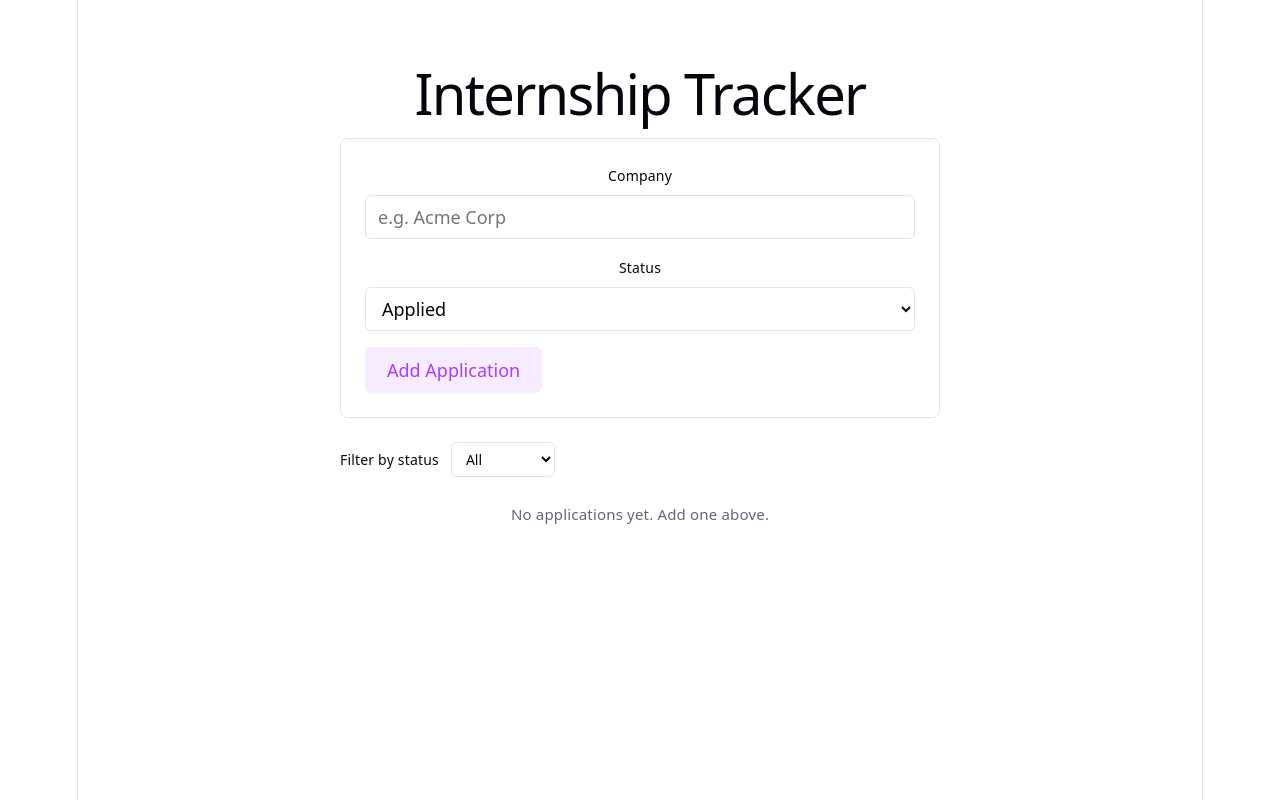
Internship Tracker › test_add_application: adds an application and shows it in the list
Type "Google" into the field labelled "Company" at point(640, 217), box x1=365 y1=195 x2=915 y2=239
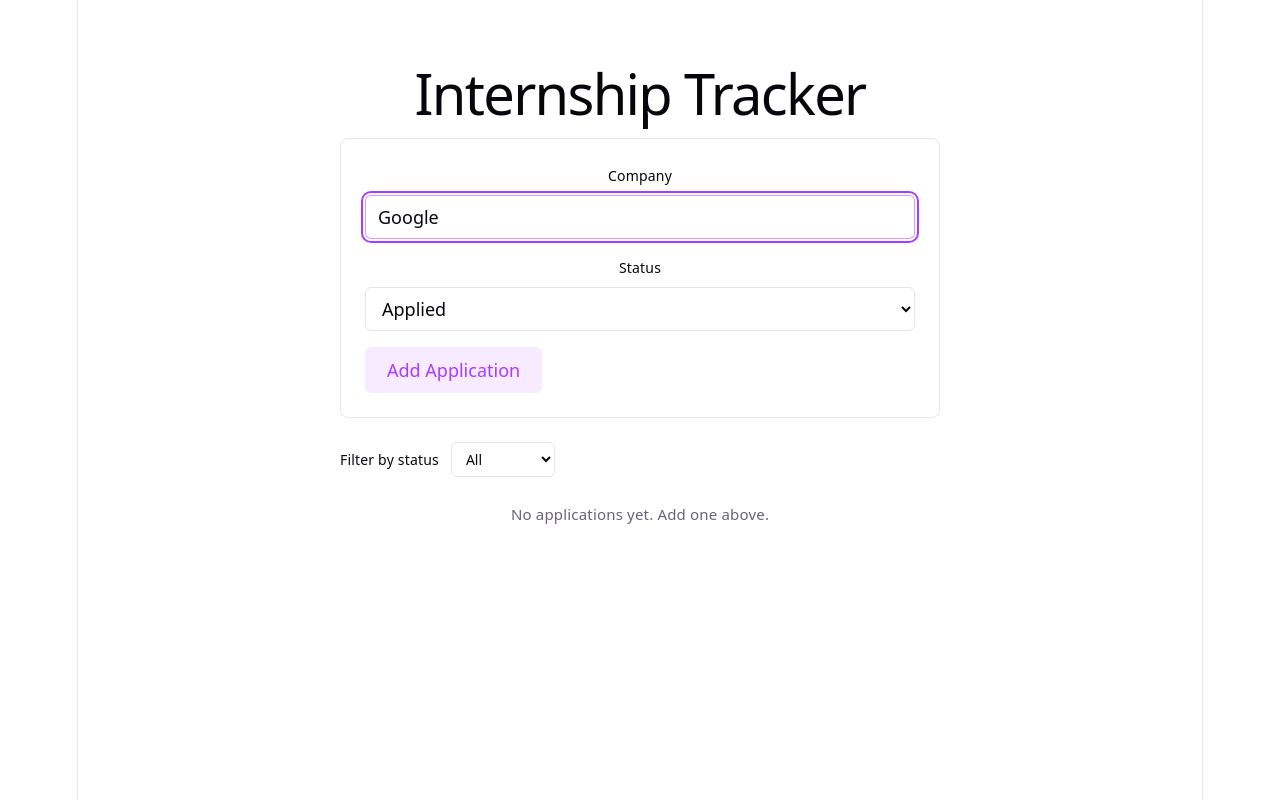
Select "Applied" in the dropdown labelled "Status" at point(640, 309), box x1=365 y1=287 x2=915 y2=331
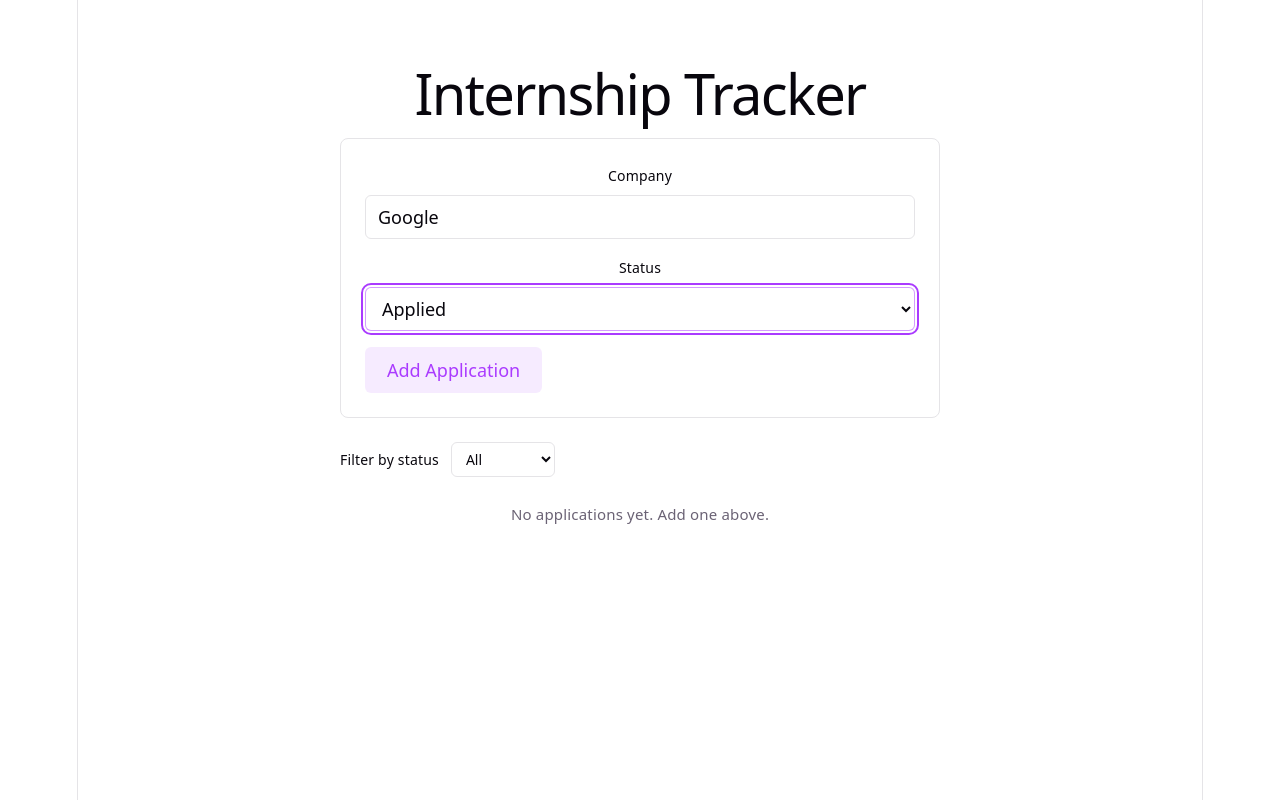
Click the button "Add Application" at point(454, 370), box x1=365 y1=347 x2=542 y2=394
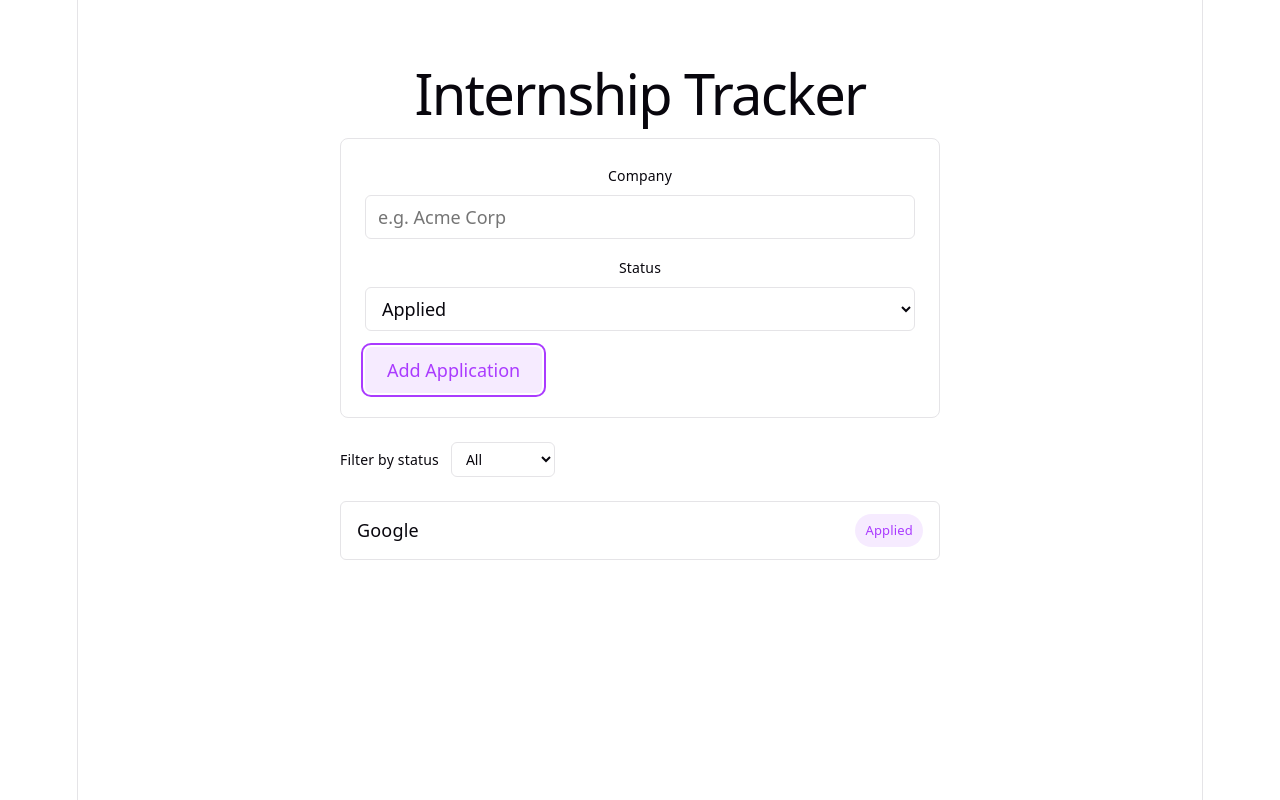
Expected: the text "Google" is shown, x1=357 y1=518 x2=419 y2=544
